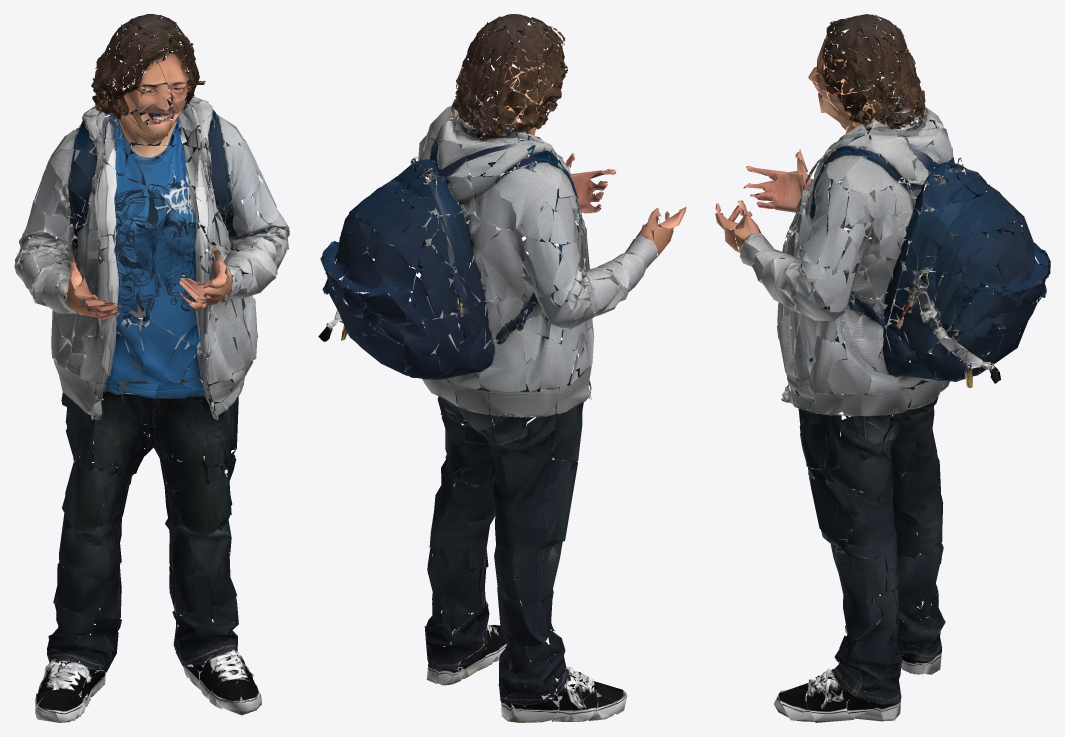
File: smiling.glb
3 renders of one model, left to right at view 1: azimuth 30°, elevation 25°; view 2: azimuth 150°, elevation 25°; view 3: azimuth 270°, elevation 25°, orthographic.
Parts seen in each view (by area): view 1: mesh_0.001; view 2: mesh_0.001; view 3: mesh_0.001.
Part boxes in pixels (<box>): mesh_0.001: <box>14,14,289,722</box>; mesh_0.001: <box>318,14,686,722</box>; mesh_0.001: <box>715,14,1050,722</box>.
Size of the model in its own units: 0.6901 by 1.78 by 0.8112.
1 material, 1 textured.
